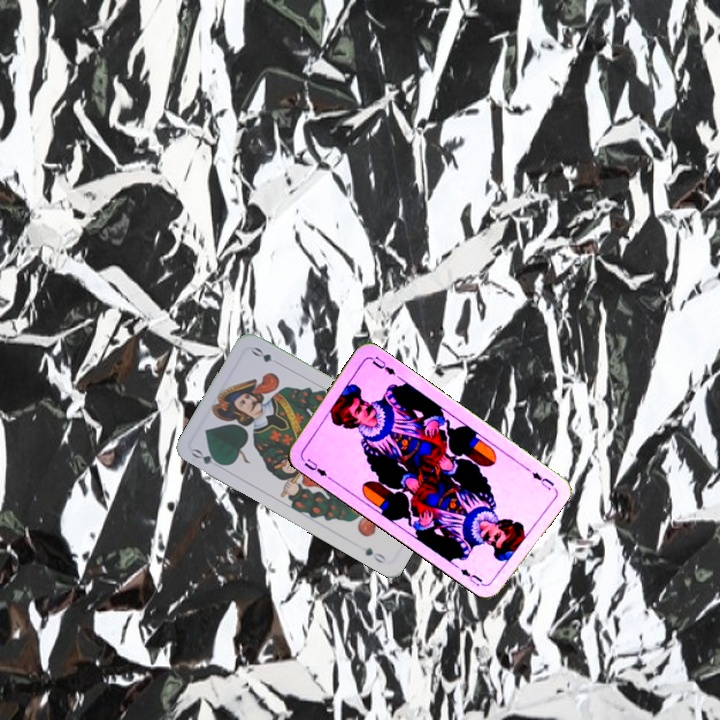EU: (521, 463, 557, 492), (300, 454, 330, 479)
GO: (187, 445, 227, 472)
